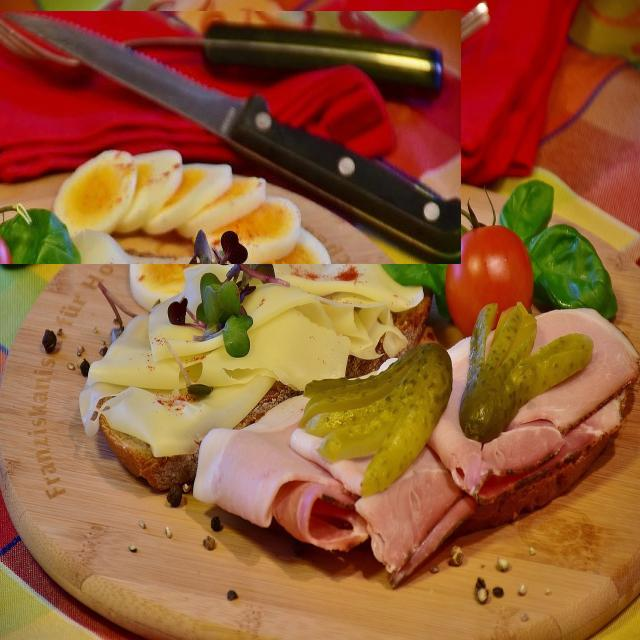Knife: (0, 12, 461, 264)
